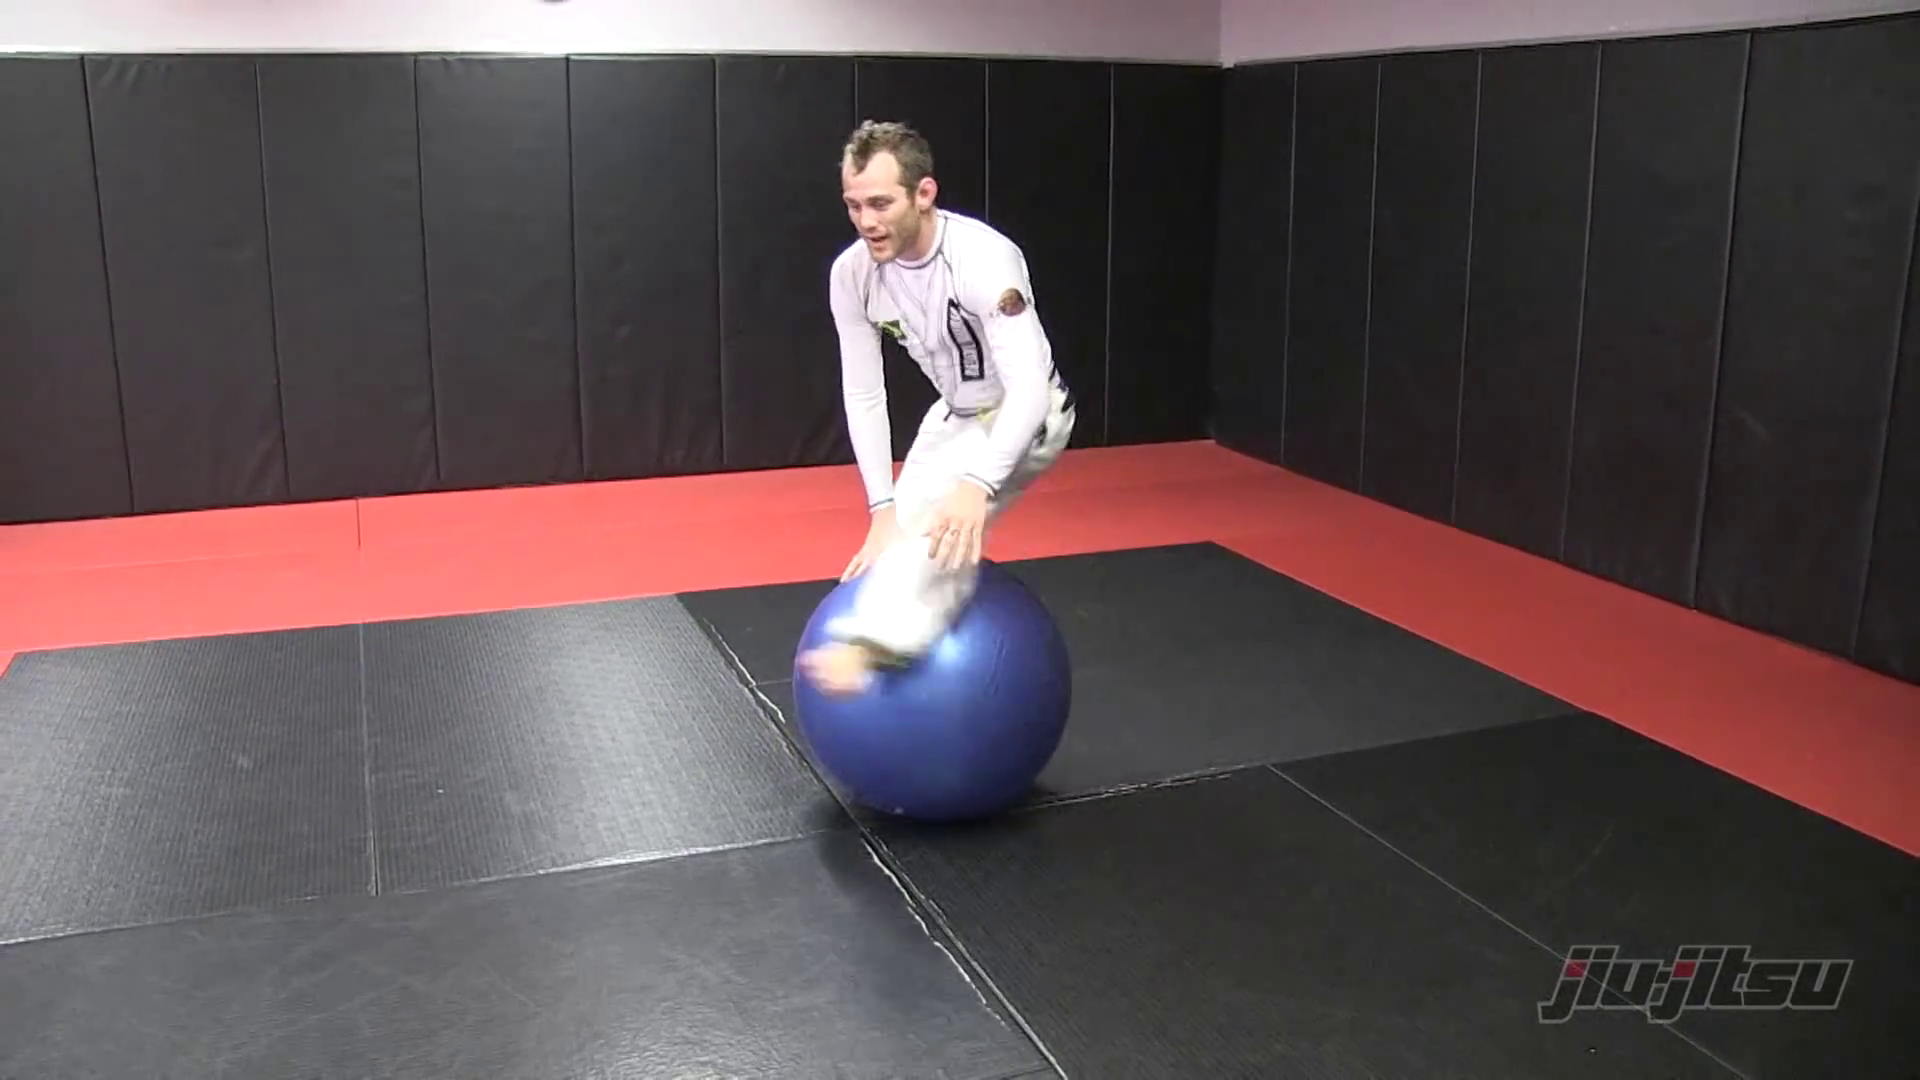yogaball: (773, 543, 1089, 837)
